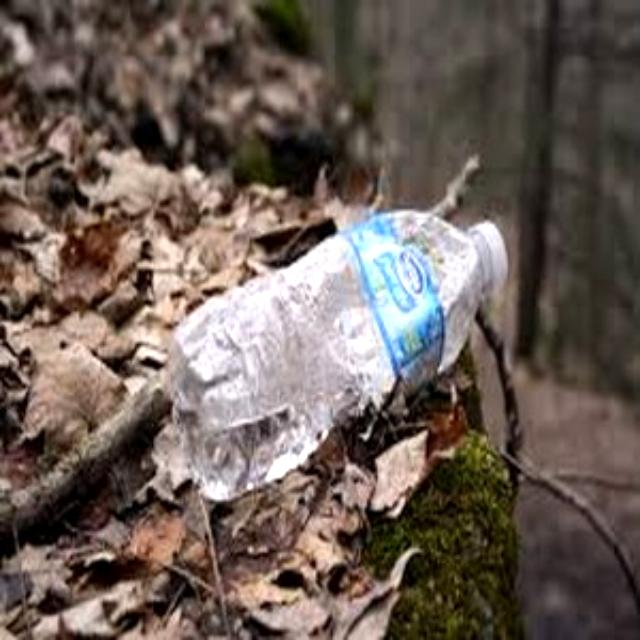Plastic: (165, 205, 507, 502)
